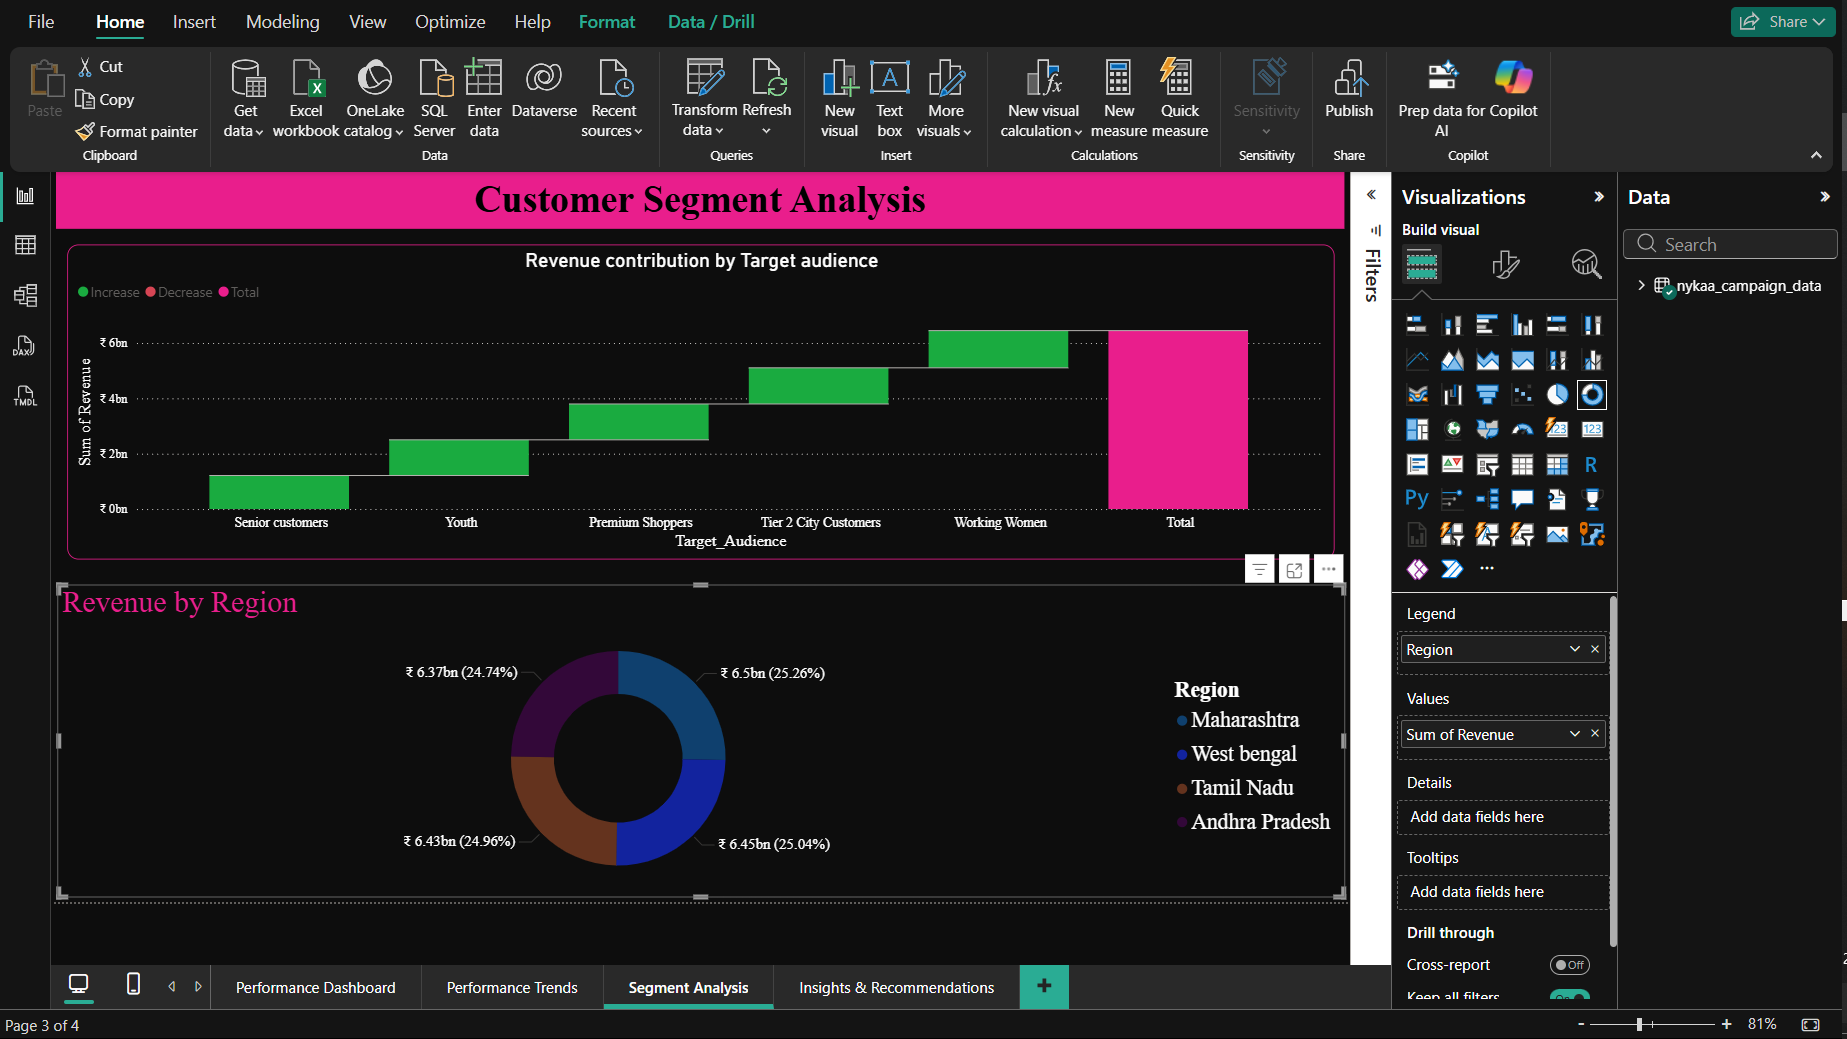

This screenshot's page, from the dashboard's own definition file:
{"tool":"powerbi","page":{"name":"Segment Analysis","canvas":[1280,720],"ordinal":2},"visuals":[{"type":"textbox","box":[5.3,0,1269.4,55.8],"z":0},{"type":"waterfallChart","title":"Revenue contribution by Target audience","fields":{"Category":["nykaa_campaign_data.Target_Audience"],"Y":["Sum(nykaa_campaign_data.Revenue)"]},"box":[16,71.4,1249,310.4],"z":1000},{"type":"donutChart","title":"Revenue by Region","fields":{"Category":["nykaa_campaign_data.Region"],"Y":["Sum(nykaa_campaign_data.Revenue)"]},"box":[6,406,1269,310],"z":2000}]}

Visuals, with their boxes on the page's 1280x720 design canvas (x1, y1, x2, y2). These are canvas units, not pixel positions in the 1847x1039 screenshot, which may show the page scaled, cropped or inside an application window:
textbox: 5, 0, 1275, 56
"Revenue contribution by Target audience" waterfallChart: 16, 71, 1265, 382
"Revenue by Region" donutChart: 6, 406, 1275, 716
